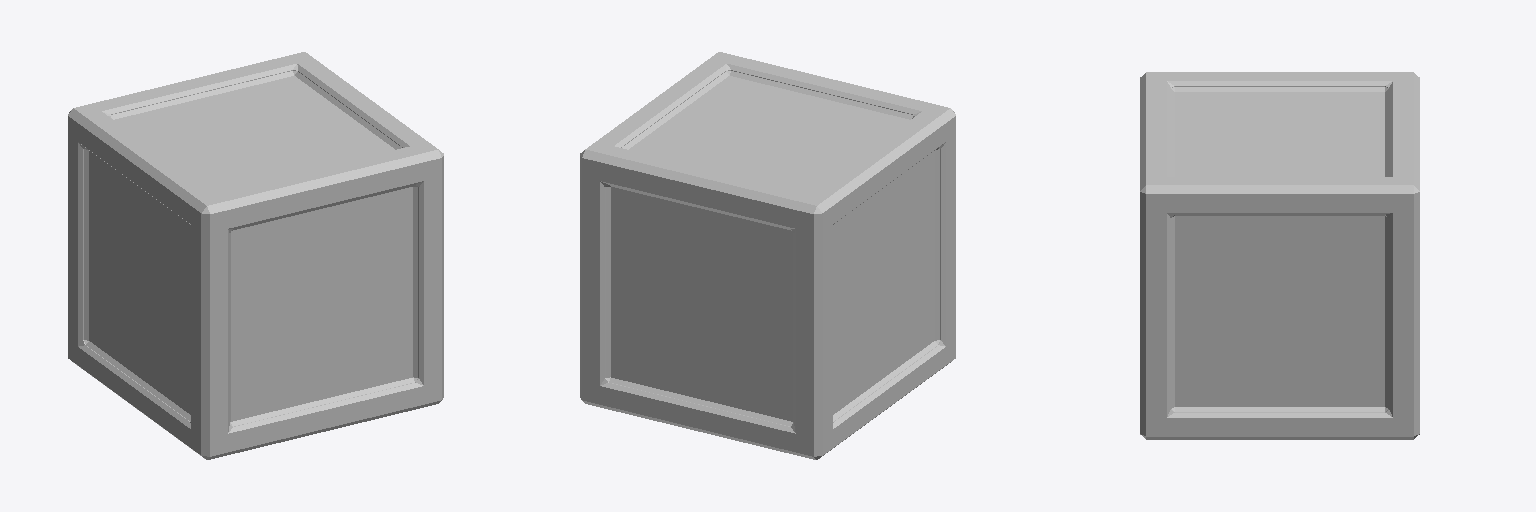
The model's file is AlphaBlocks.obj.
3 renders of one model, left to right at view 1: azimuth 30°, elevation 25°; view 2: azimuth 150°, elevation 25°; view 3: azimuth 270°, elevation 25°, orthographic.
Parts seen in each view (by area): view 1: Cube; view 2: Cube; view 3: Cube.
Boxes of the visible parts, <box> form: Cube: <box>68,52,443,459</box>; Cube: <box>580,52,955,459</box>; Cube: <box>1140,72,1419,439</box>.
Bounding box in the file's own units: 0.14 × 0.14 × 0.14.